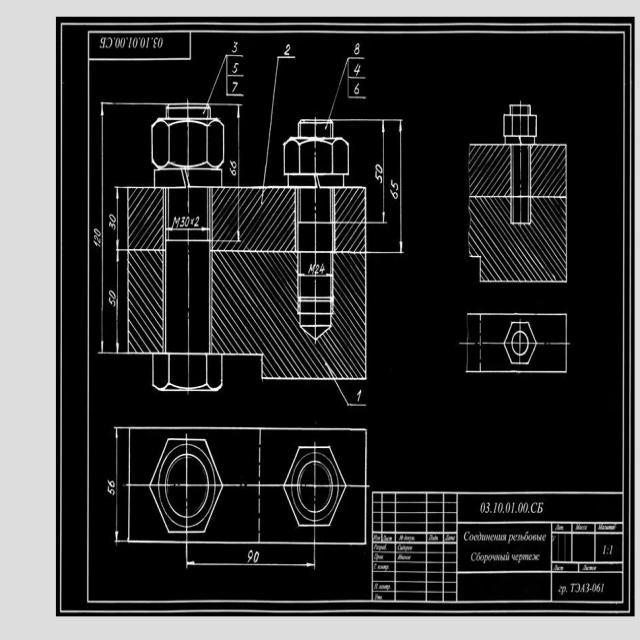marking_line: (397, 121, 406, 252), (100, 107, 104, 352), (188, 561, 315, 568), (237, 106, 241, 240), (115, 250, 120, 351), (382, 120, 386, 222), (115, 429, 118, 540), (116, 186, 121, 248)
numeric: (389, 177, 399, 202), (181, 216, 201, 228), (373, 162, 383, 184), (244, 550, 259, 564), (107, 213, 118, 231), (107, 286, 116, 307), (231, 39, 242, 55), (91, 228, 100, 247), (353, 81, 363, 96), (228, 158, 236, 176), (106, 480, 115, 496), (355, 388, 363, 404), (315, 264, 325, 275), (354, 42, 363, 54), (352, 63, 361, 75), (283, 45, 291, 56), (232, 61, 239, 73), (233, 80, 239, 93)
special_symbol: (272, 53, 297, 133), (328, 55, 351, 117), (223, 52, 249, 103)
